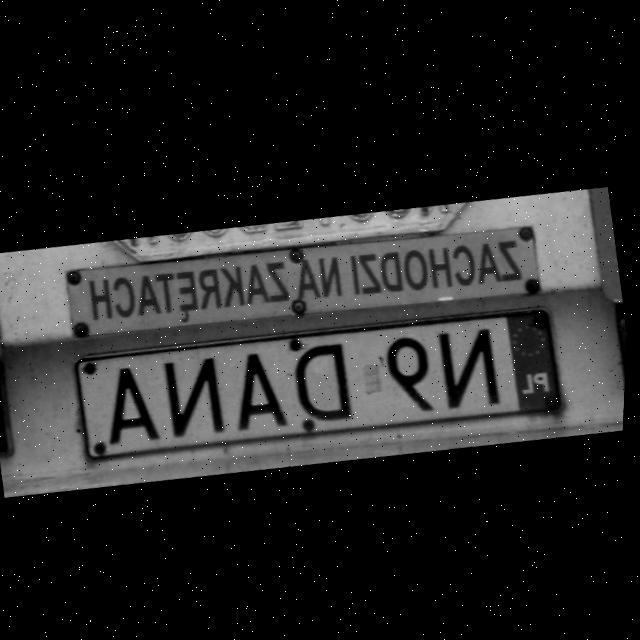license-plates: (73, 309, 562, 460)
